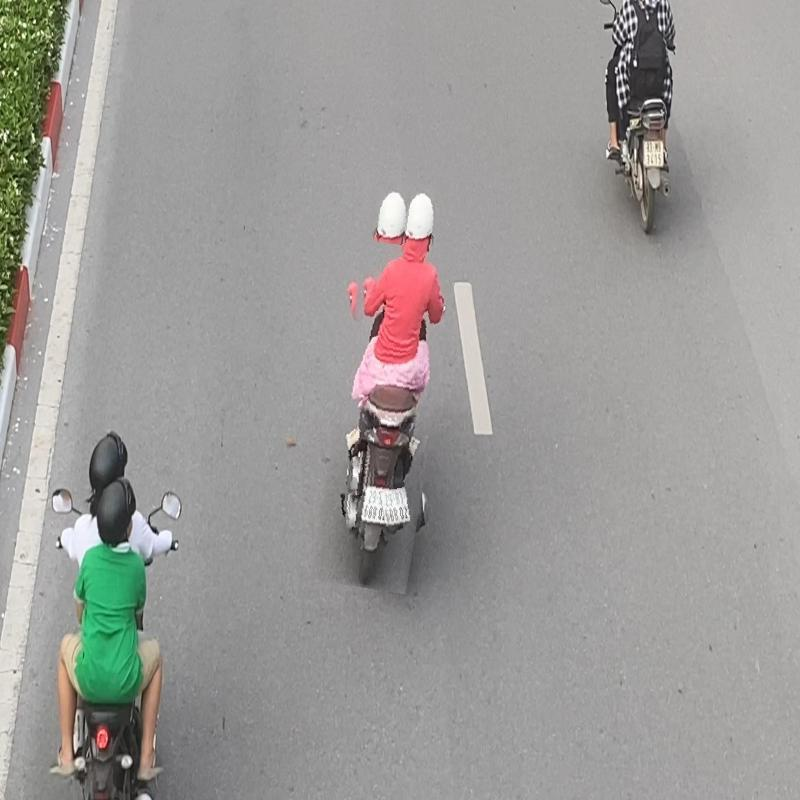helmet: (374, 185, 410, 244)
licenseplate: (380, 488, 411, 526)
motorcyclist: (326, 180, 454, 592)
